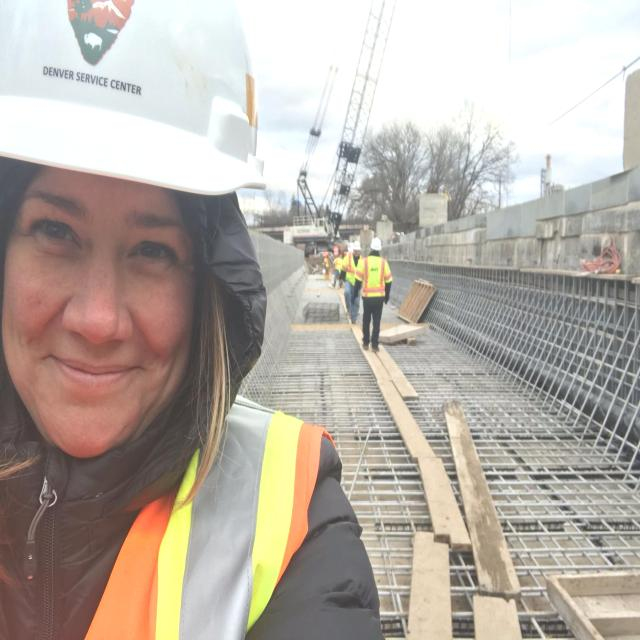face_nomask: (18, 182, 226, 446)
head_helmet: (0, 1, 268, 210), (369, 237, 385, 253), (353, 240, 360, 252)
person: (0, 0, 384, 633), (362, 236, 395, 350), (343, 234, 362, 321)
vest: (361, 257, 396, 300), (342, 254, 364, 283)
